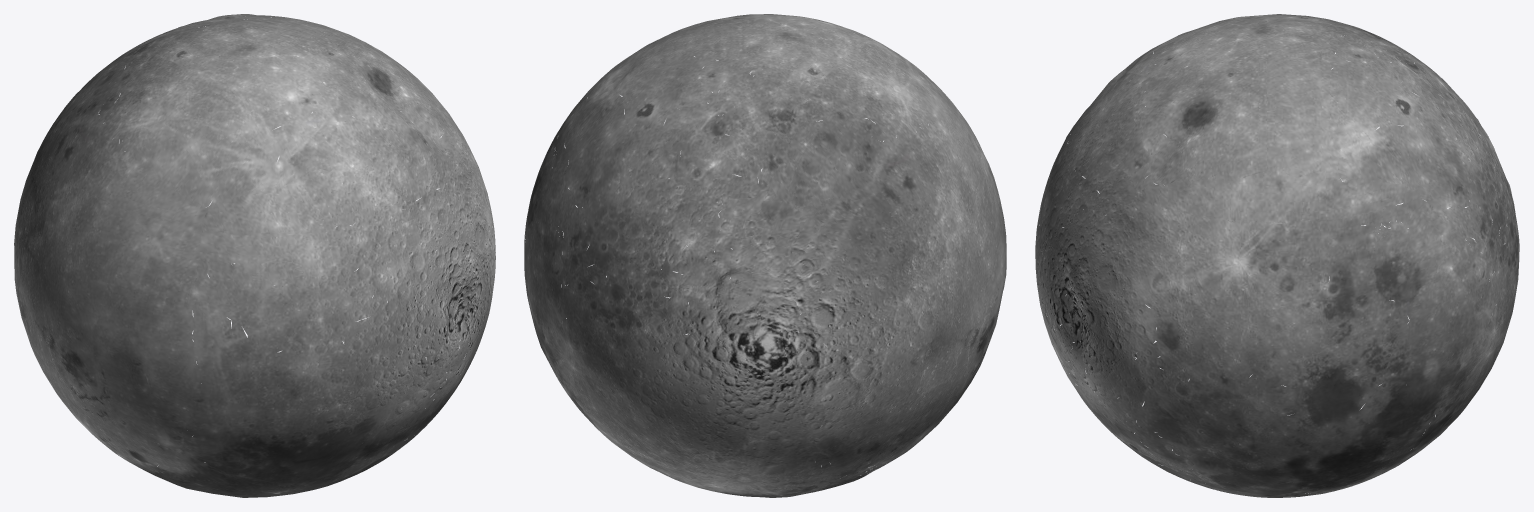
The model's file is moon-low.glb.
3 views of the same model, side by side, from view 1: azimuth 30°, elevation 25°; view 2: azimuth 150°, elevation 25°; view 3: azimuth 270°, elevation 25° (orthographic).
Parts seen in each view (by area): view 1: meshNode_Material_u1_v1_0 (×2); view 2: meshNode_Material_u1_v1_0 (×2); view 3: meshNode_Material_u1_v1_0 (×2).
Boxes of the visible parts, left/top/right/bottom form: meshNode_Material_u1_v1_0 (×2): left=14, top=14, right=495, bottom=497; meshNode_Material_u1_v1_0 (×2): left=524, top=14, right=1006, bottom=497; meshNode_Material_u1_v1_0 (×2): left=1035, top=14, right=1519, bottom=497.
Size of the model in its own units: 2 by 2 by 2.
1 material, 1 textured.
